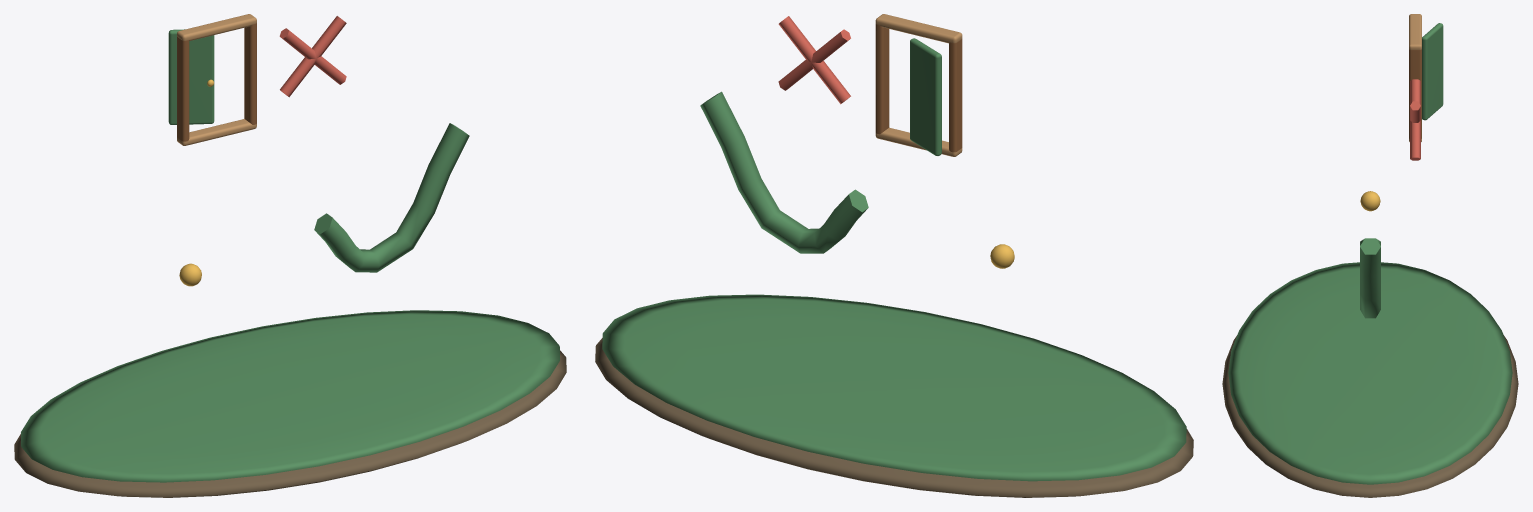
The model's file is complete-third-only-good-route.glb.
3 views of the same model, side by side, from view 1: azimuth 30°, elevation 25°; view 2: azimuth 150°, elevation 25°; view 3: azimuth 270°, elevation 25° (orthographic). The views are drawn at different scales.
Parts seen in each view (by area): view 1: complete-third-only-good-route_surface_01, complete-third-only-good-route_surface_00, complete-third-only-good-route_surface_03, complete-third-only-good-route_surface_05, complete-third-only-good-route_surface_04; view 2: complete-third-only-good-route_surface_01, complete-third-only-good-route_surface_00, complete-third-only-good-route_surface_03, complete-third-only-good-route_surface_05, complete-third-only-good-route_surface_04; view 3: complete-third-only-good-route_surface_01, complete-third-only-good-route_surface_00, complete-third-only-good-route_surface_05, complete-third-only-good-route_surface_03, complete-third-only-good-route_surface_04, complete-third-only-good-route_surface_02.
Boxes of the visible parts, x1,y1,x2,y2 form: complete-third-only-good-route_surface_01: (21,29,559,482); complete-third-only-good-route_surface_00: (14,350,566,497); complete-third-only-good-route_surface_03: (177,23,256,141); complete-third-only-good-route_surface_05: (279,16,346,97); complete-third-only-good-route_surface_04: (177,14,256,145); complete-third-only-good-route_surface_01: (602,38,1186,481); complete-third-only-good-route_surface_00: (595,338,1193,497); complete-third-only-good-route_surface_03: (875,24,962,152); complete-third-only-good-route_surface_05: (778,16,850,104); complete-third-only-good-route_surface_04: (875,14,962,156); complete-third-only-good-route_surface_01: (1228,23,1512,484); complete-third-only-good-route_surface_00: (1222,335,1518,497); complete-third-only-good-route_surface_05: (1410,79,1420,160); complete-third-only-good-route_surface_03: (1409,49,1421,138); complete-third-only-good-route_surface_04: (1409,14,1421,141); complete-third-only-good-route_surface_02: (1360,191,1380,211).
Bounding box in the file's own units: 4.56 × 3.24 × 2.5.
